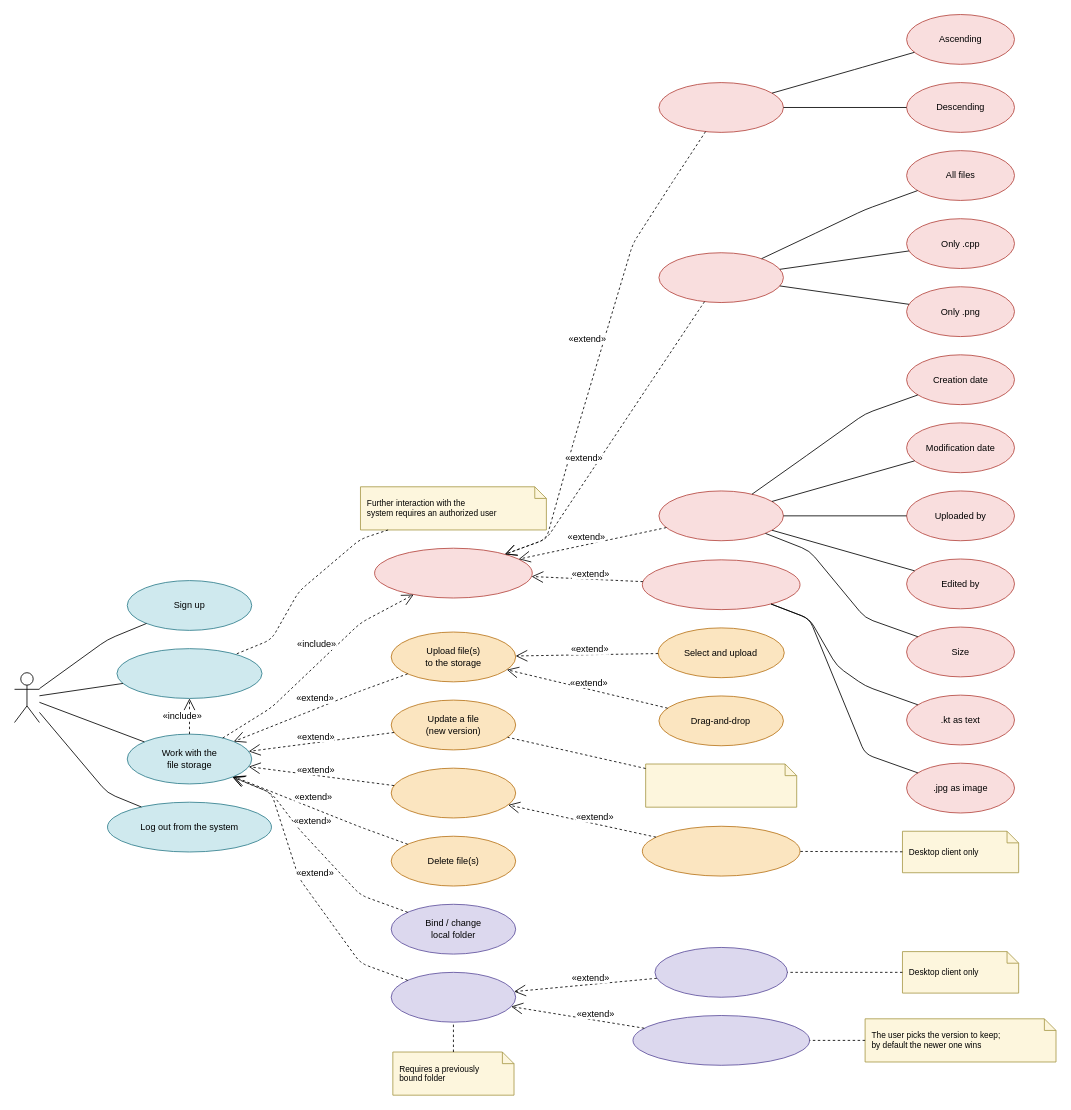
Some shapes in this 1071 by 1110 pixel diagram are drawn without their labels. The centre of each missing label's shape, as x and y in pixels:
"Automatic tracking of folder changes" goes at pixel 720 972.
"Download file(s)" goes at pixel 453 792.
"Drag out of the window" goes at pixel 721 850.
"Filter by type" goes at pixel 720 277.
"Log in to the system" goes at pixel 189 673.
"Resolve version conflicts" goes at pixel 721 1040.
"Show / hide table columns" goes at pixel 720 515.
"Sort by name" goes at pixel 720 107.
"Synchronize with the local folder" goes at pixel 453 997.
"Updates «modification date» and «edited by»" goes at pixel 721 785.
"User" goes at pixel 26 697.
"View the file contents" goes at pixel 721 584.
"View the list of files and their attributes" goes at pixel 453 572.
